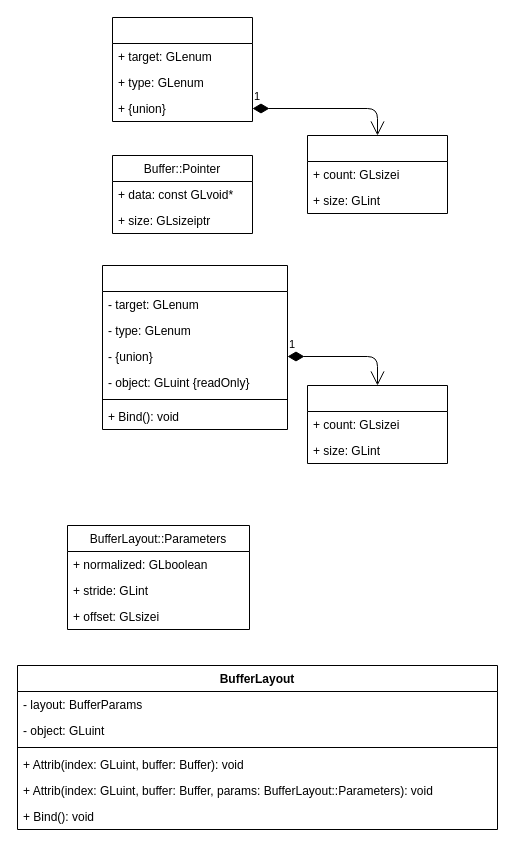
Some shapes in this 515 by 850 pixel diagram are drawn without their labels. The shapes that lost their labels are listed below. From the top down, each one's box as (x1, y1, x2, y2) in pixels, then its label:
(112, 16, 252, 122): Buffer::Properties
(102, 264, 288, 430): Buffer
